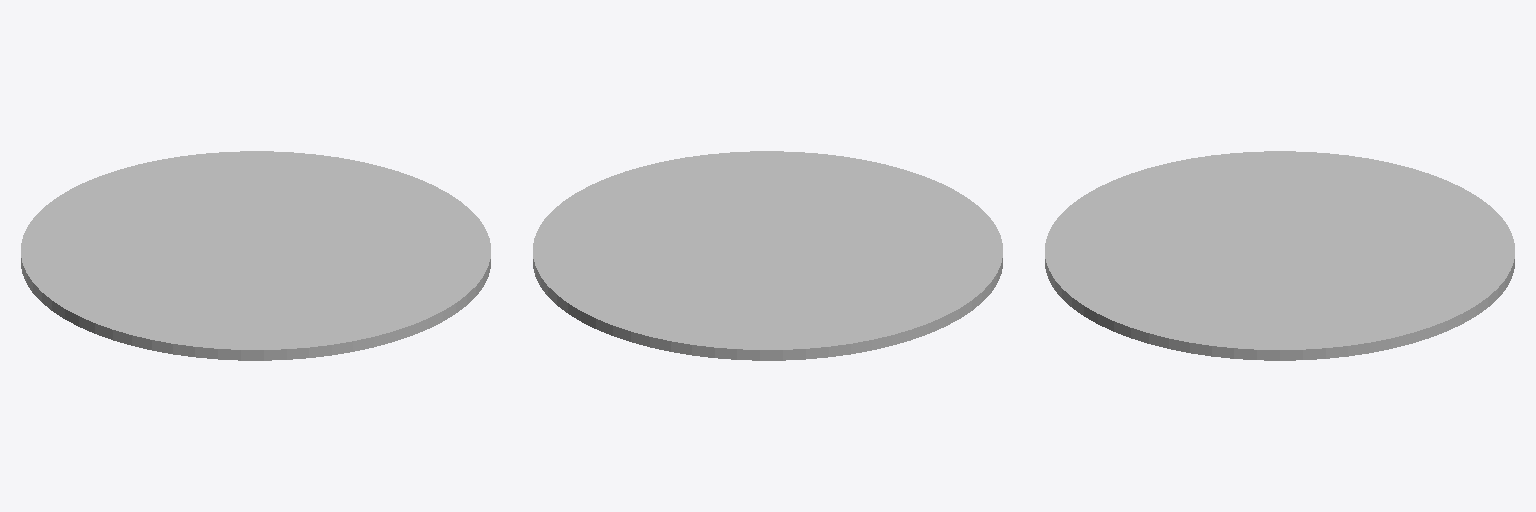
File: platform.obj
3 renders of one model, left to right at view 1: azimuth 30°, elevation 25°; view 2: azimuth 150°, elevation 25°; view 3: azimuth 270°, elevation 25°, orthographic.
Visible parts, largest first — view 1: Cylinder; view 2: Cylinder; view 3: Cylinder.
Boxes of the visible parts, <box> form: Cylinder: <box>21,151,490,360</box>; Cylinder: <box>533,151,1002,360</box>; Cylinder: <box>1045,151,1514,360</box>.
Size of the model in its own units: 8 by 0.2 by 8.